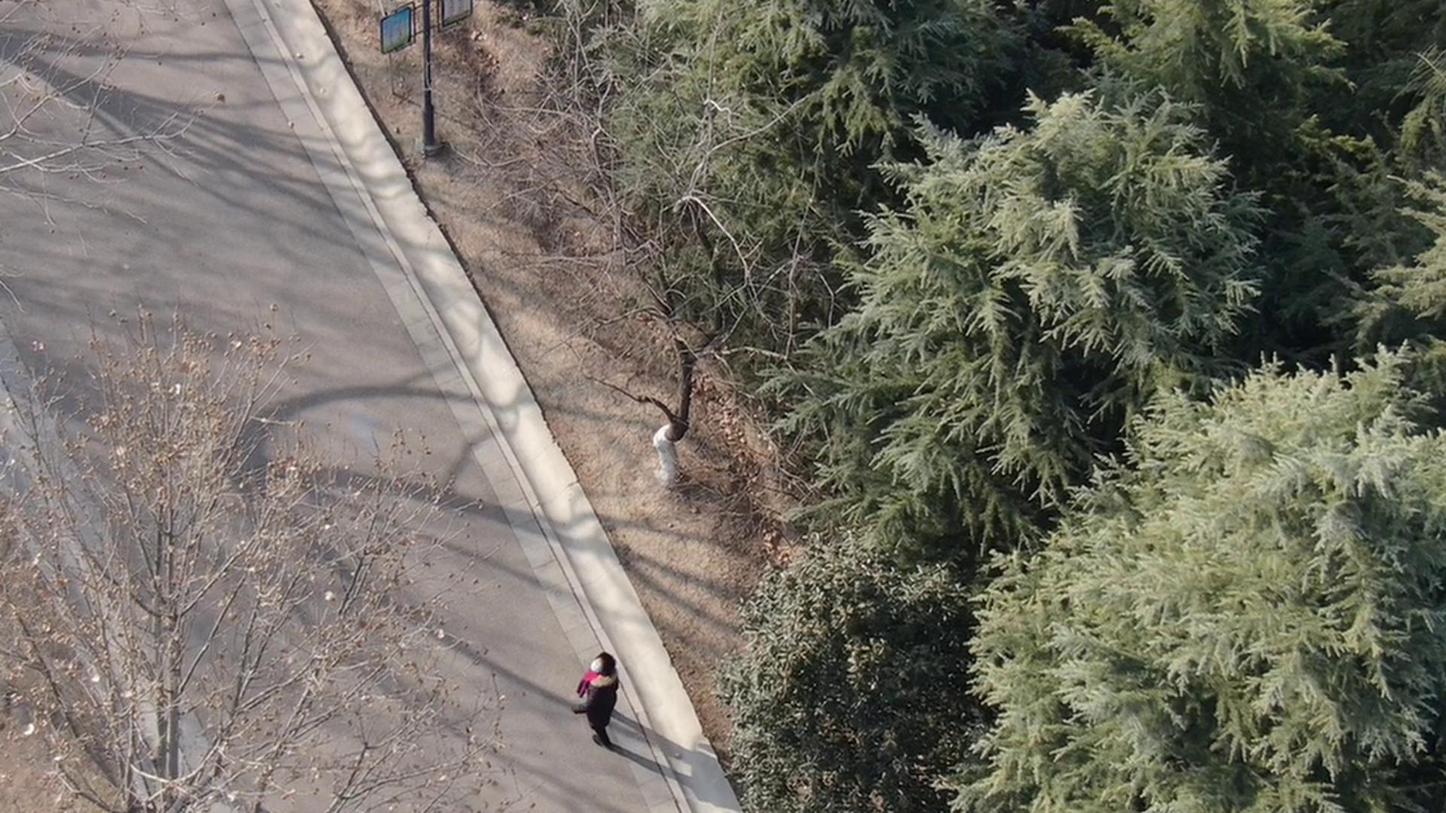human: (574, 646, 623, 740)
